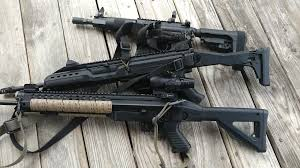gun: (0, 78, 271, 158), (1, 45, 269, 103), (70, 7, 245, 70)
